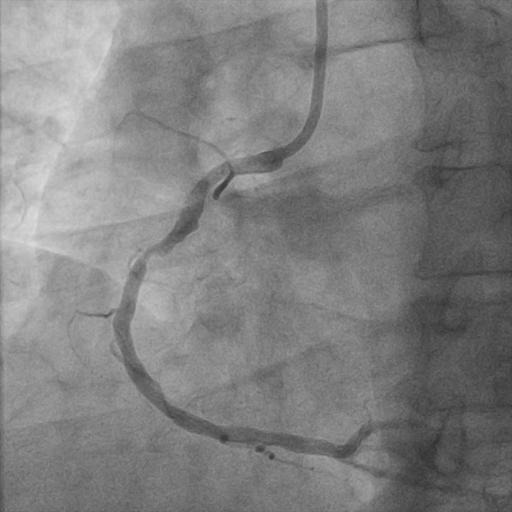block: (114, 229, 189, 298)
